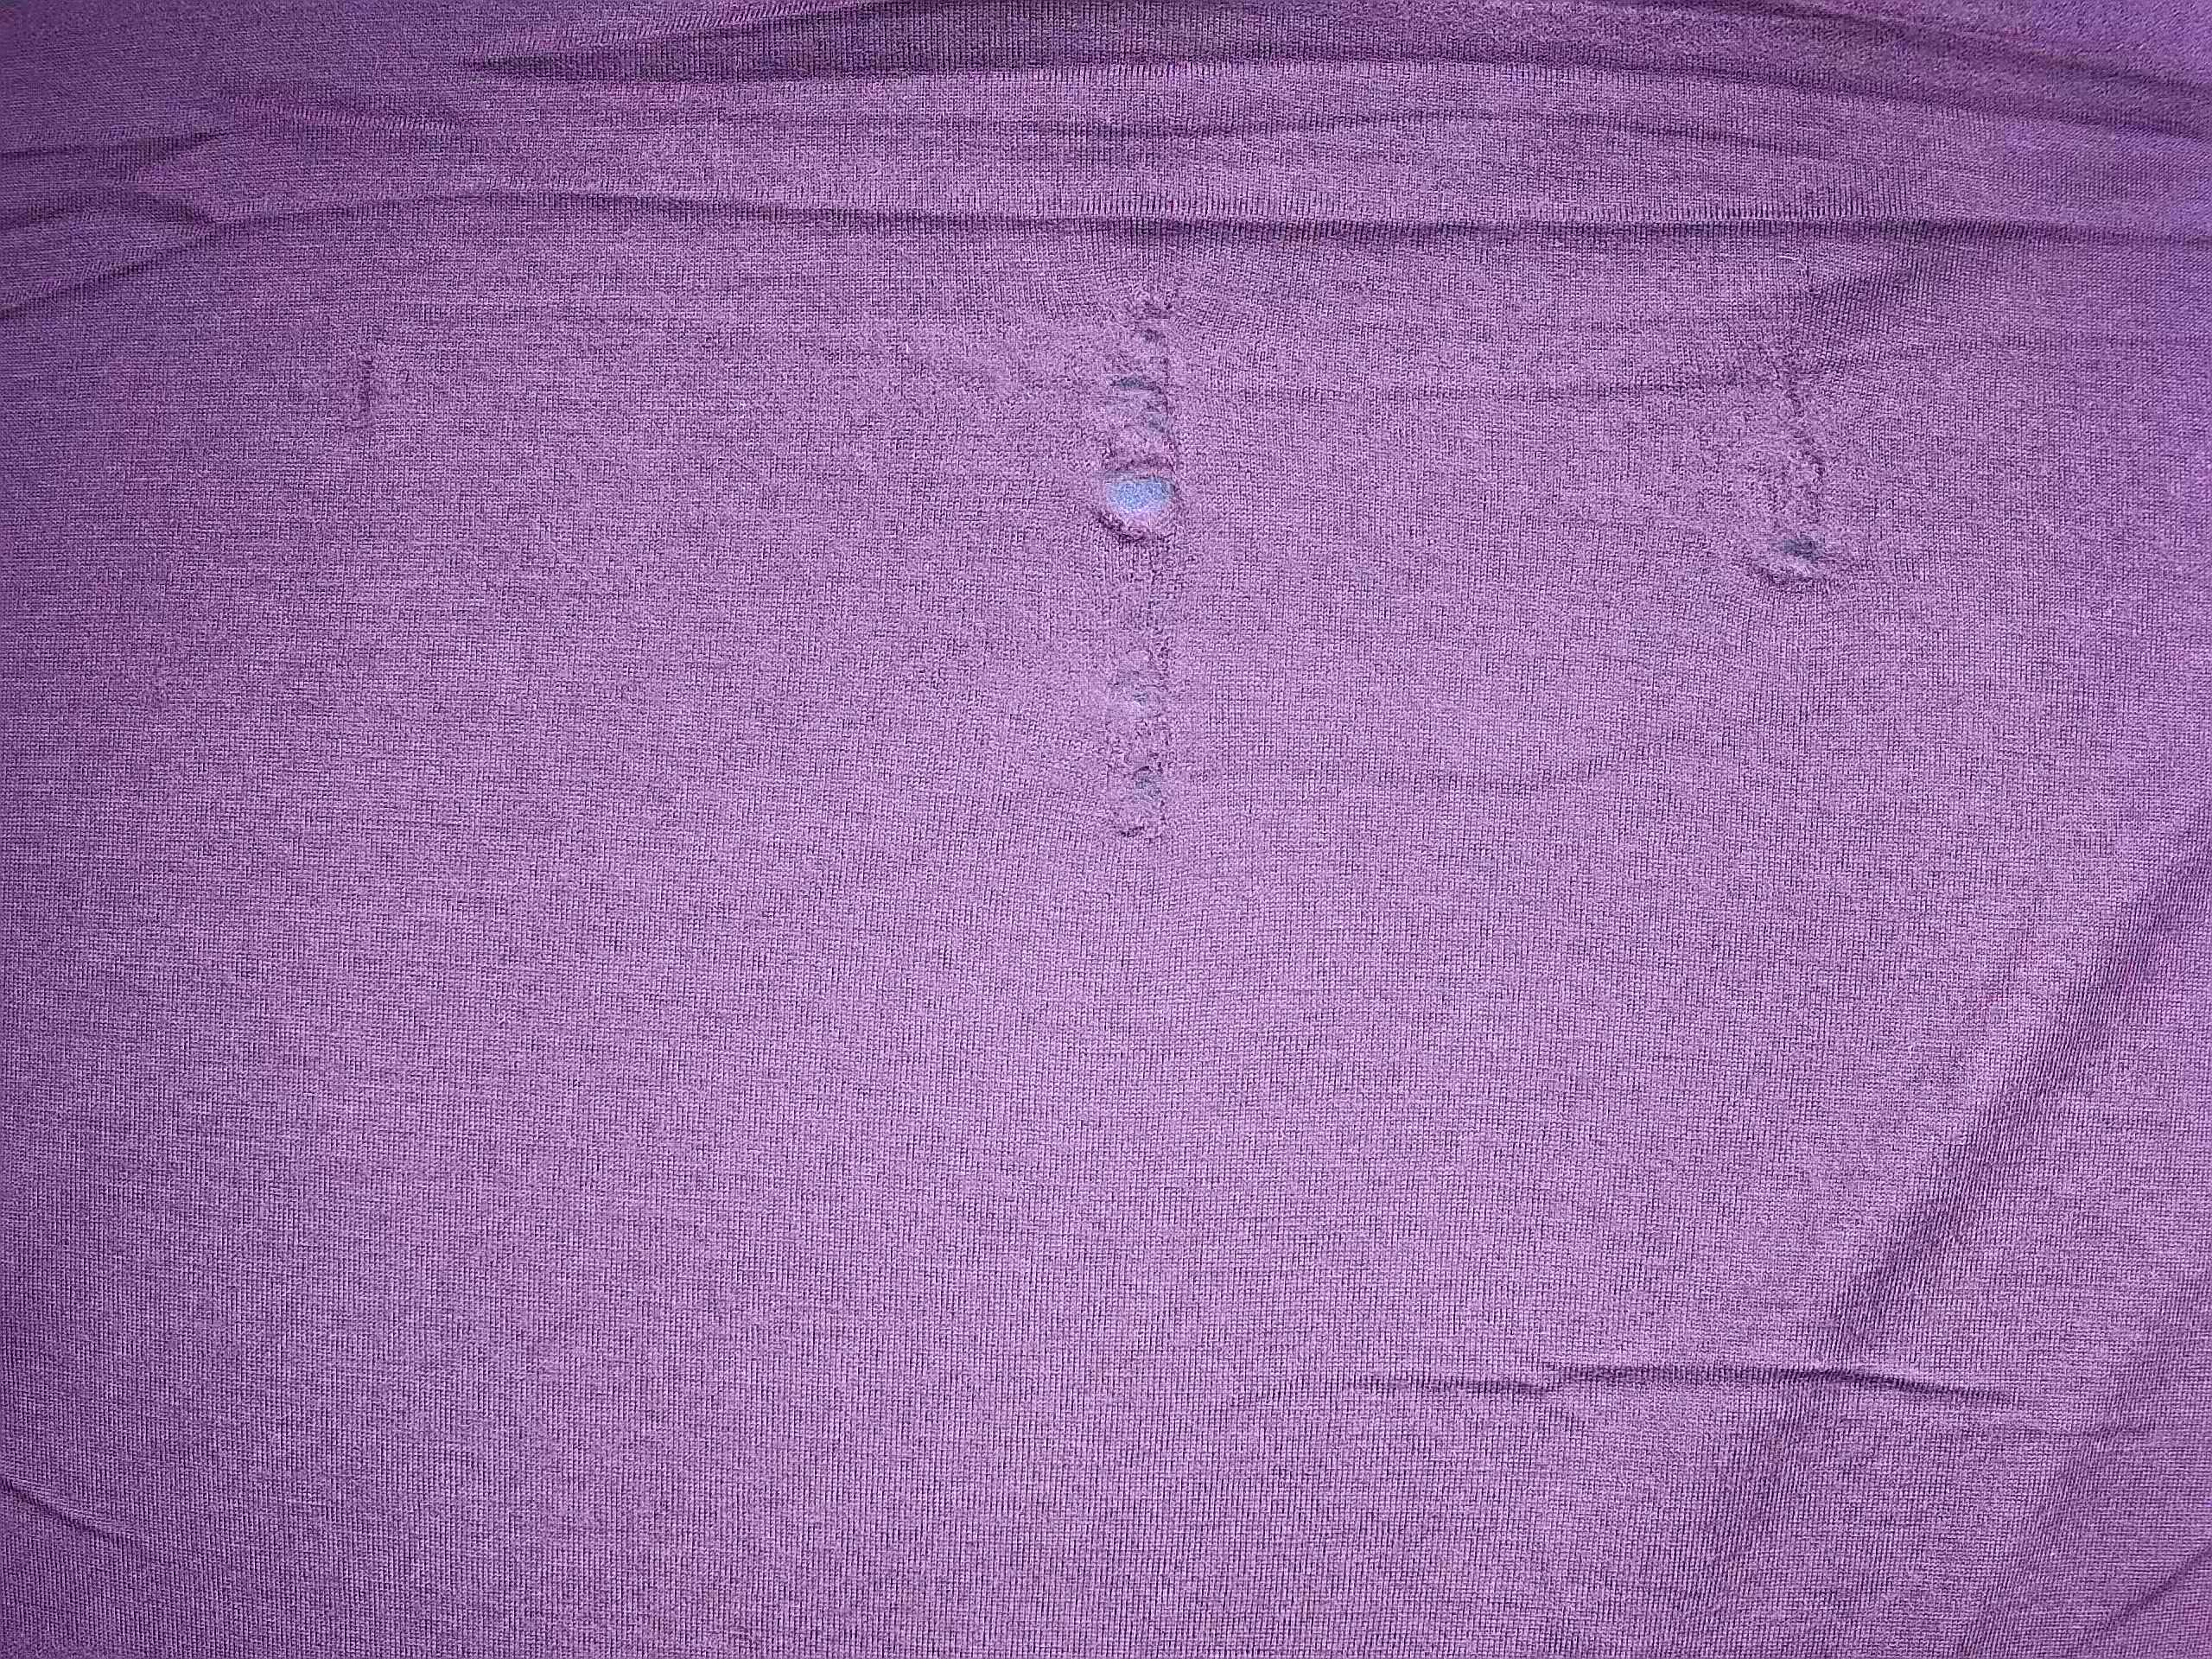others: (1075, 213, 1223, 890), (1714, 227, 1892, 636), (320, 300, 423, 477)
